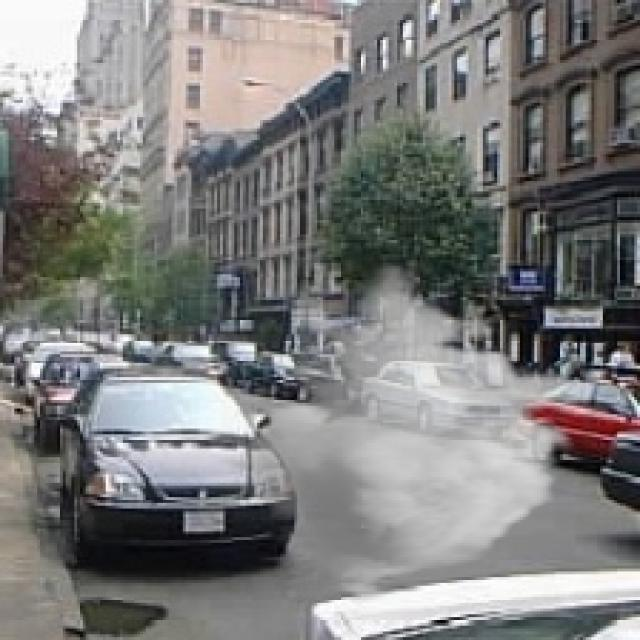smoke: (220, 263, 597, 606)
